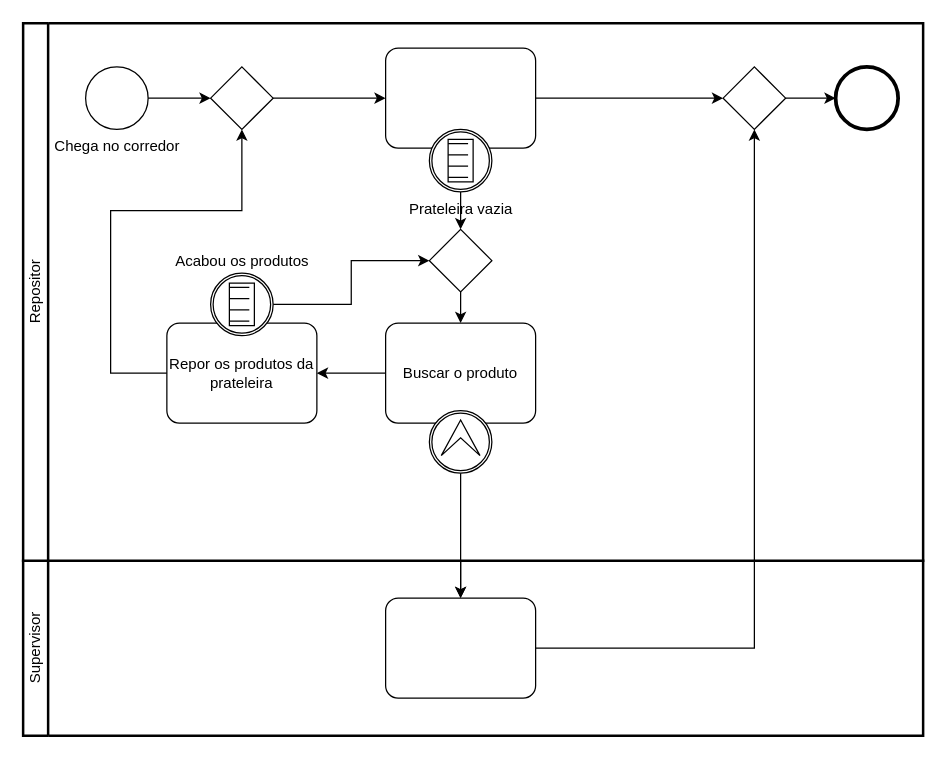
Image size: 945x758. Some labels were removed from this diagram. The centre of each missing label's shape, as x and y in pixels:
Avisar que o produto está em falta: point (460, 647)
Fim: point (866, 97)
Verificar as prateleiras: point (460, 97)
